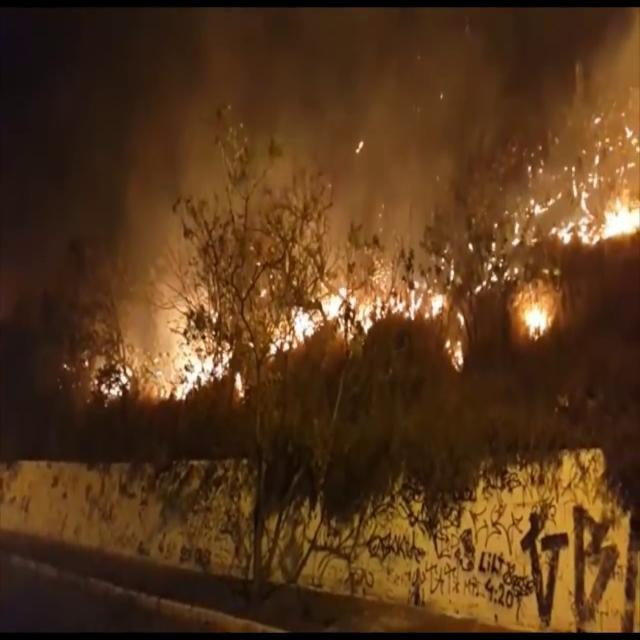Fire: (269, 284, 445, 352), (154, 305, 232, 398), (551, 207, 639, 245), (512, 286, 552, 342), (446, 309, 470, 372), (99, 364, 131, 400), (235, 370, 248, 398)
Smoke: (111, 13, 635, 330)
